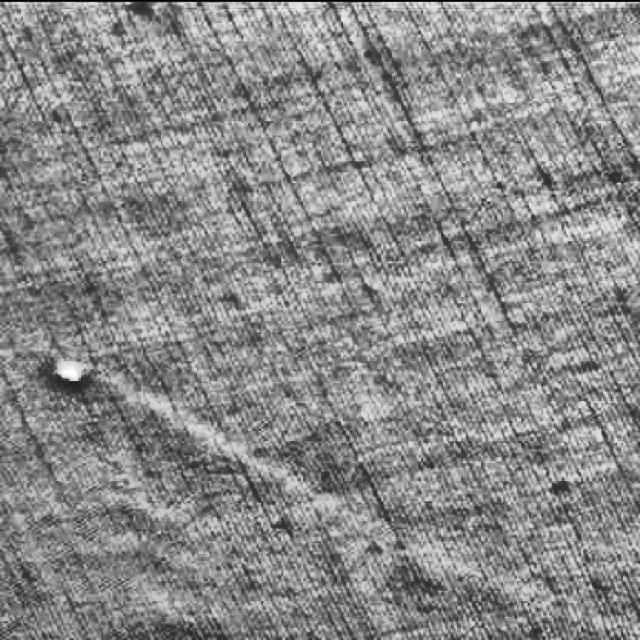hole: (51, 350, 88, 392)
